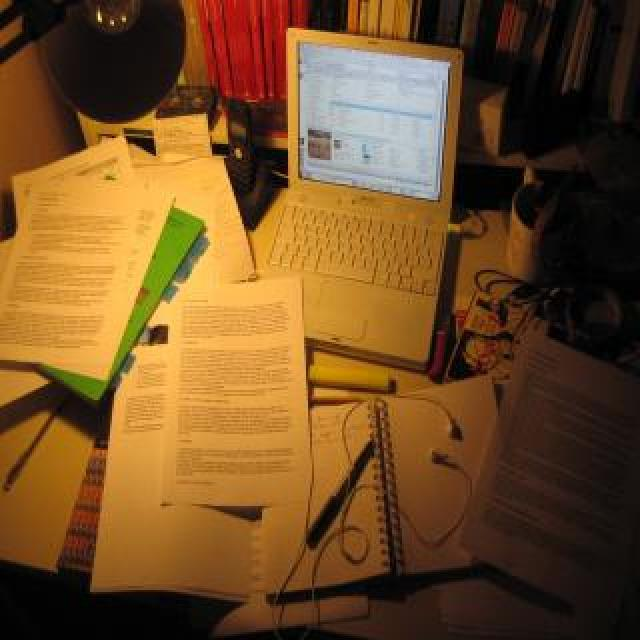laptop_computer: (257, 15, 445, 370)
